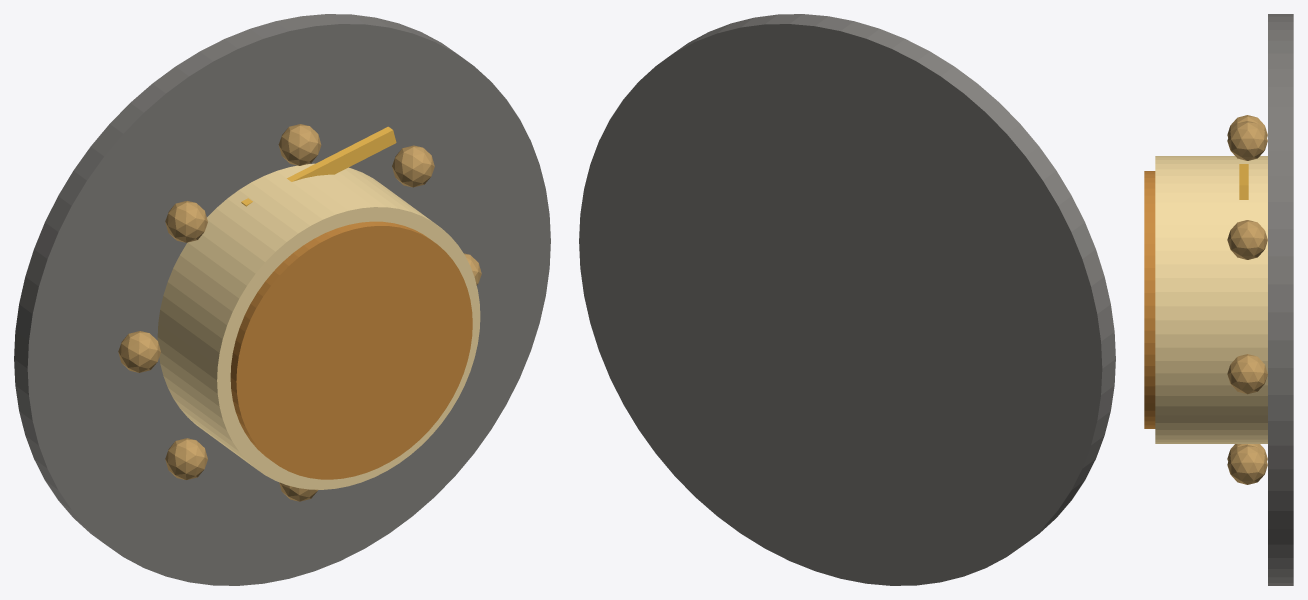
The model's file is burnt-honey-custard.glb.
The picture shows the model from 3 angles, left to right: view 1: azimuth 30°, elevation 25°; view 2: azimuth 150°, elevation 25°; view 3: azimuth 270°, elevation 25°; orthographic projection. The views are drawn at different scales.
Parts seen in each view (by area): view 1: Plate, BurntHoney, Custard, CitrusDust, ToastedGrains_2, ToastedGrains_3, ToastedGrains_5, ToastedGrains_4, ToastedGrains_6; view 2: Plate; view 3: Custard, Plate, BurntHoney, ToastedGrains_8, ToastedGrains, ToastedGrains_2, ToastedGrains_3, CitrusDust, ToastedGrains_4.
Boxes of the visible parts, bbox=[...] form: Plate: bbox=[14, 14, 550, 585]; BurntHoney: bbox=[230, 221, 472, 479]; Custard: bbox=[157, 163, 480, 489]; CitrusDust: bbox=[241, 126, 396, 206]; ToastedGrains_2: bbox=[392, 145, 434, 187]; ToastedGrains_3: bbox=[278, 124, 321, 165]; ToastedGrains_5: bbox=[118, 331, 160, 372]; ToastedGrains_4: bbox=[165, 201, 207, 242]; ToastedGrains_6: bbox=[165, 438, 207, 479]; Plate: bbox=[579, 14, 1115, 585]; Custard: bbox=[1155, 156, 1267, 443]; Plate: bbox=[1268, 14, 1293, 585]; BurntHoney: bbox=[1144, 171, 1155, 428]; ToastedGrains_8: bbox=[1227, 444, 1267, 484]; ToastedGrains: bbox=[1227, 354, 1267, 394]; ToastedGrains_2: bbox=[1227, 220, 1267, 259]; ToastedGrains_3: bbox=[1227, 121, 1267, 160]; CitrusDust: bbox=[1239, 164, 1248, 199]; ToastedGrains_4: bbox=[1227, 115, 1267, 137].
Bounding box in the file's own units: 3.1 × 3.1 × 0.81.
